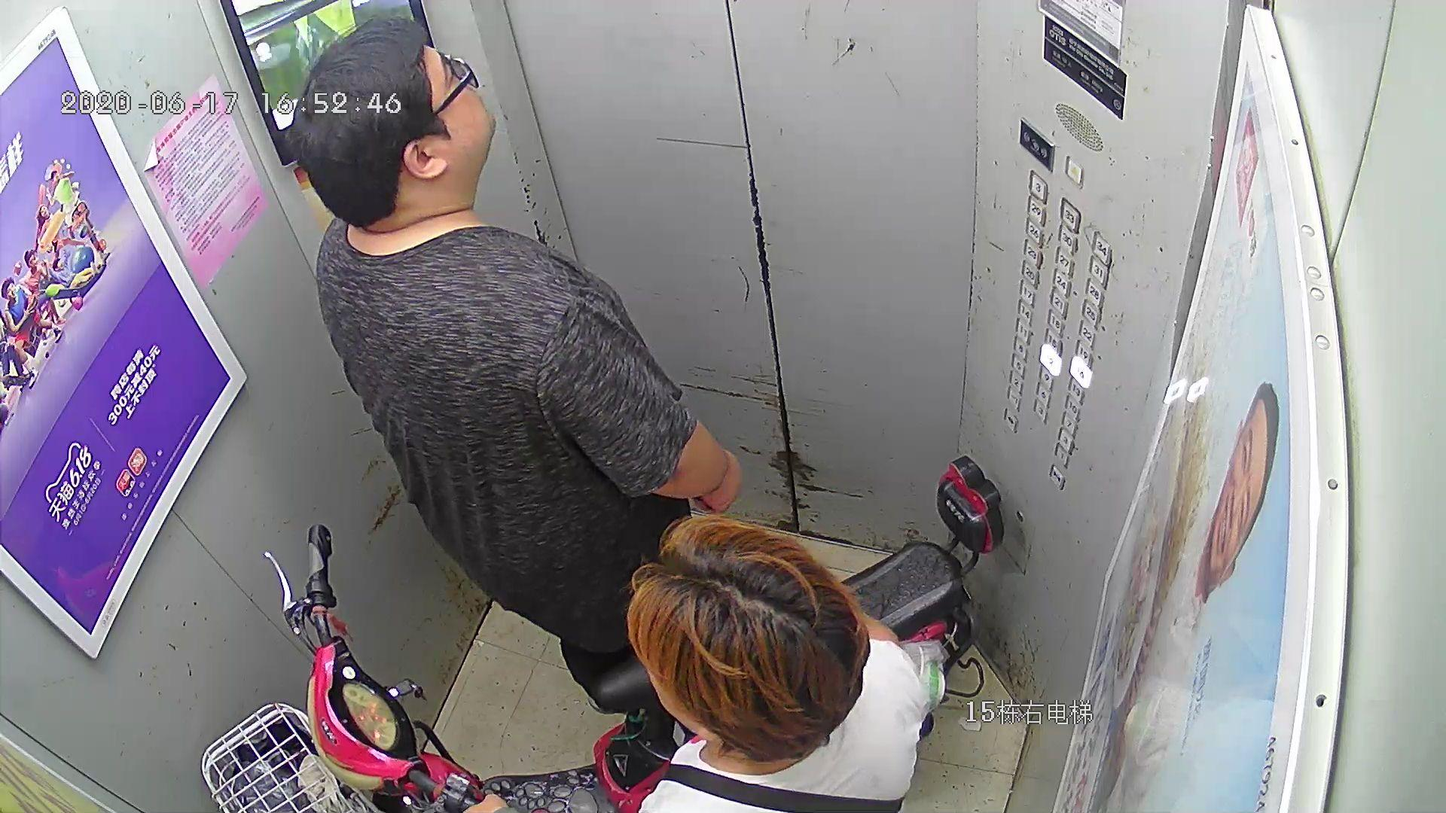Electric-bicycle: (206, 463, 993, 807)
